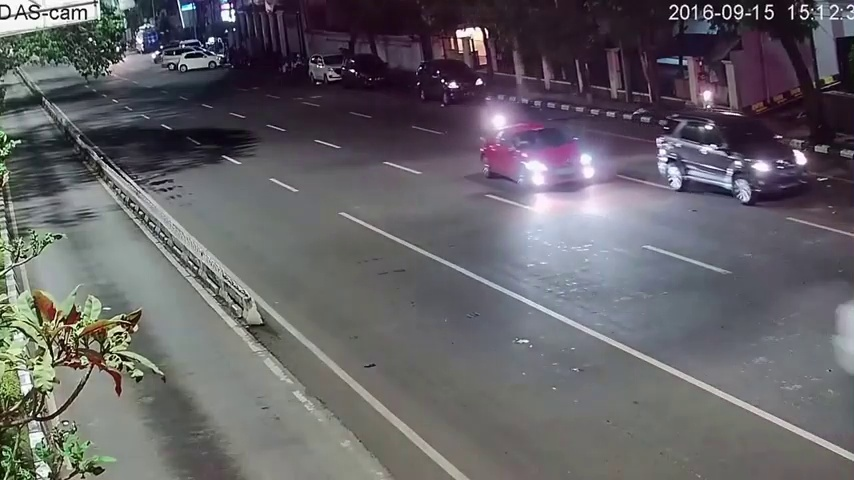car: (658, 106, 809, 206), (484, 122, 596, 192), (419, 59, 487, 109), (342, 52, 392, 92), (309, 49, 342, 87)
motorbike: (484, 108, 504, 142), (699, 73, 715, 109)
